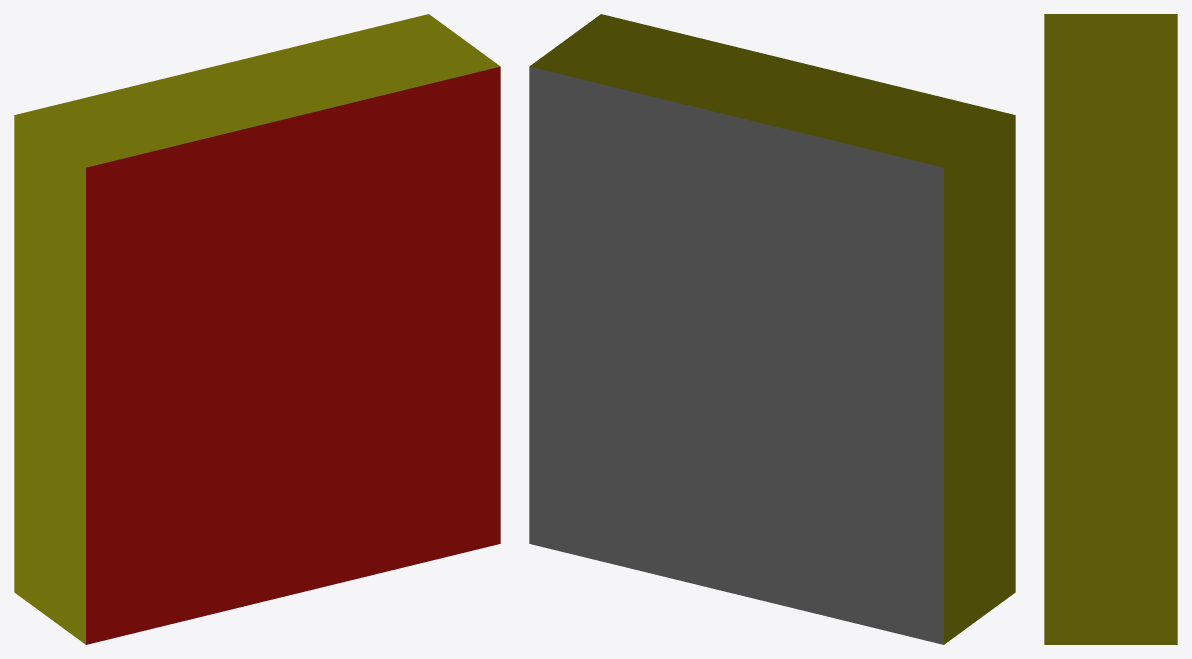
Rendered from afn_nv.obj.
3 views of the same model, side by side, from view 1: azimuth 30°, elevation 25°; view 2: azimuth 150°, elevation 25°; view 3: azimuth 270°, elevation 25° (orthographic). The views are drawn at different scales.
Size of the model in its own units: 10 by 11 by 3.
